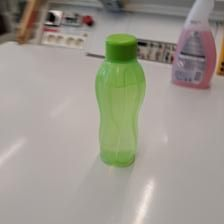bottle: (95, 30, 143, 167)
